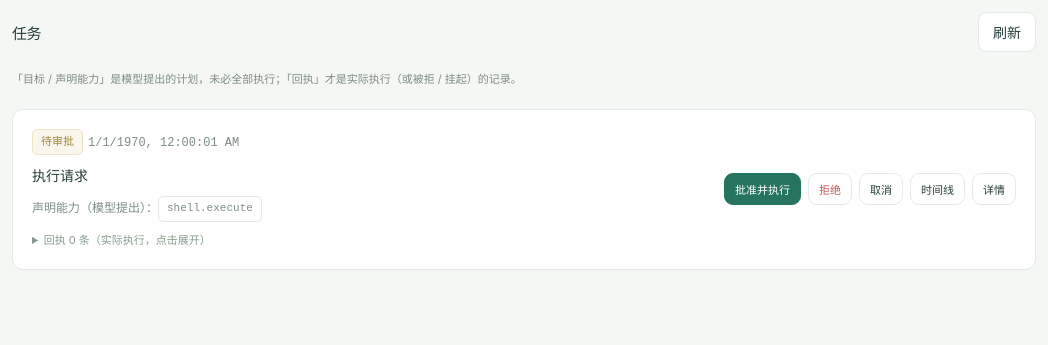
console user flows › records approval before resuming a pending task
Click the button "批准并执行": (762, 189) [724, 173, 801, 205]
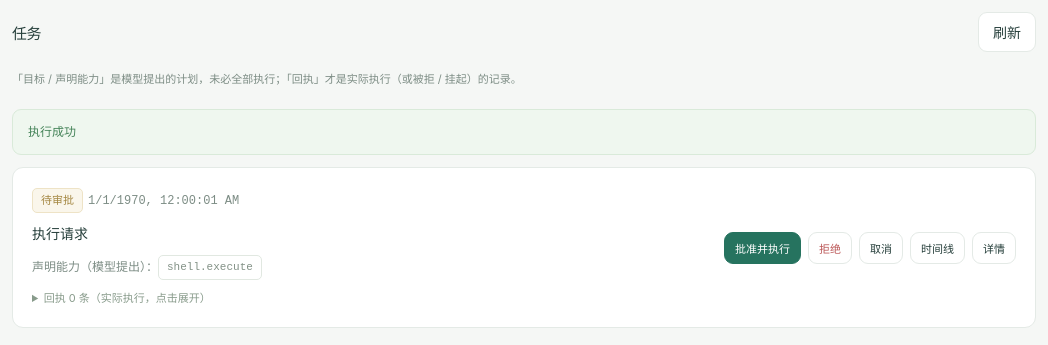
Now the text "执行成功" is shown, box [12, 109, 1036, 155]
